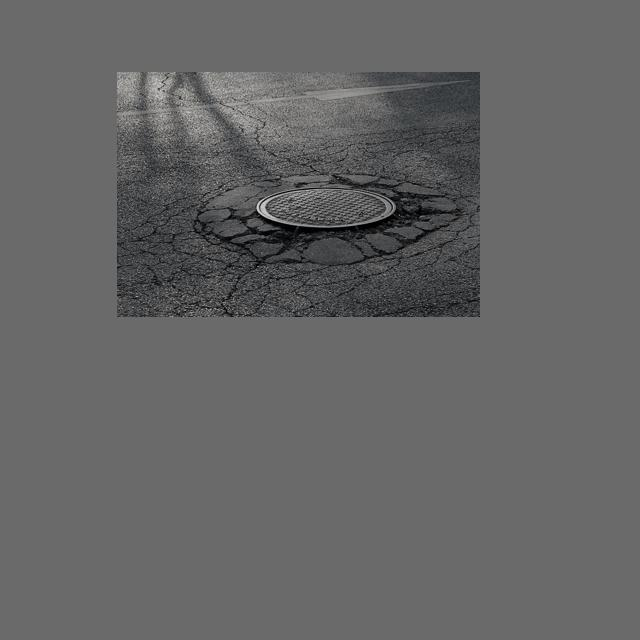circle: (192, 162, 446, 275)
